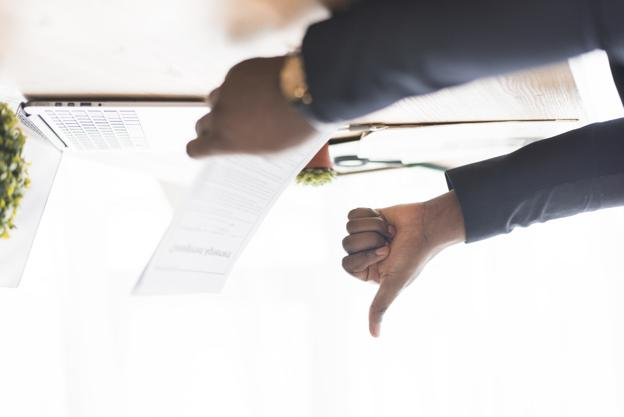thumbsdown: (341, 207, 401, 339)
